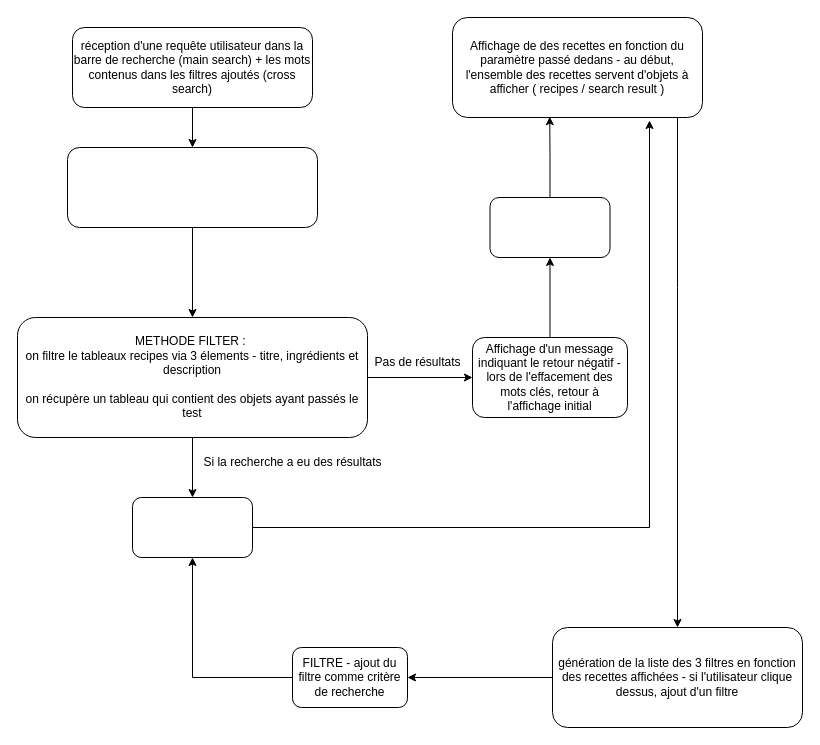
The diagram is 820 pixels wide and 745 high, and some of its shapes have lost their labels. The shapes that lost their labels are listed below. From the top down, each one's centre as x and y in pixels, then its label:
the point at 192,187: on récupère cet input dans une variable, en lowerCase
the point at 549,227: RECIPES - OBJET INITIAL
the point at 192,527: Résultat de la recherche [...]
